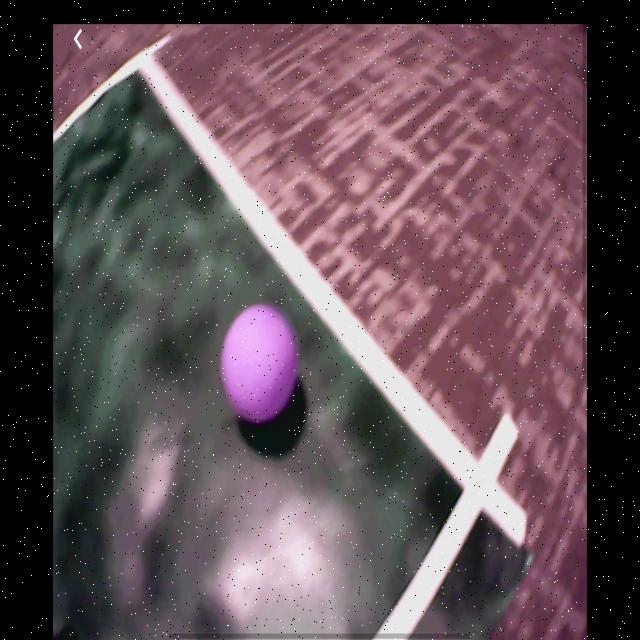ball: (223, 311, 300, 425)
